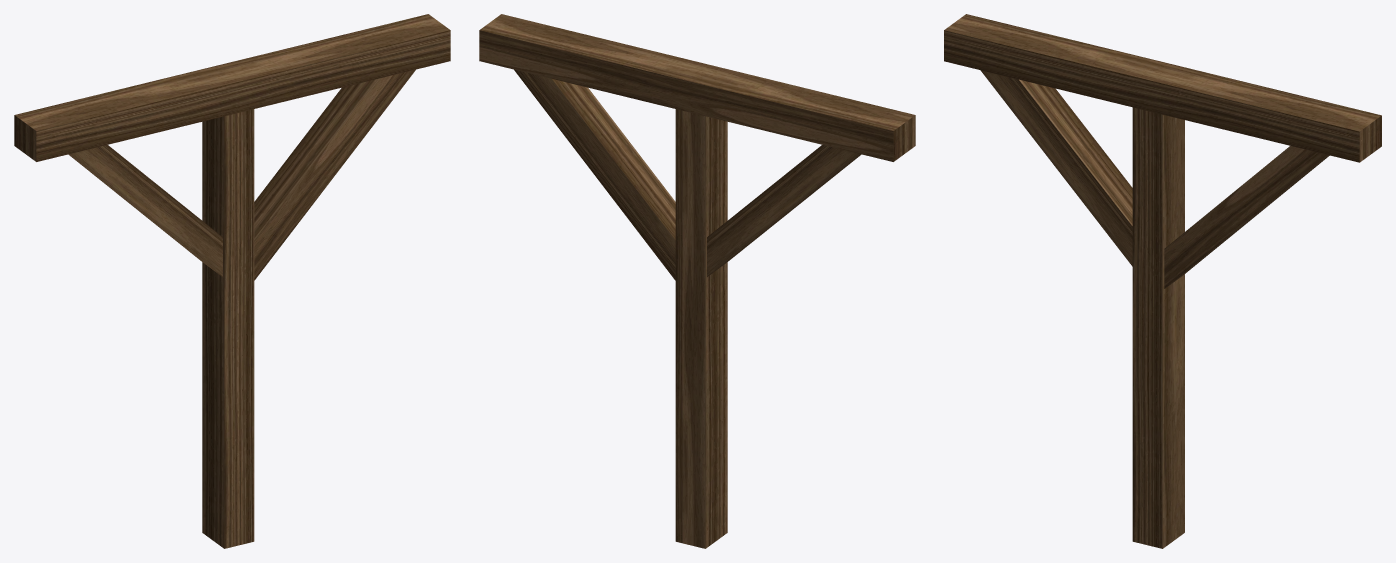
File: Wooden 03.glb
3 views of the same model, side by side, from view 1: azimuth 30°, elevation 25°; view 2: azimuth 150°, elevation 25°; view 3: azimuth 330°, elevation 25° (orthographic).
Parts seen in each view (by area): view 1: Wooden_03; view 2: Wooden_03; view 3: Wooden_03.
Part boxes in pixels (left/top/right/bottom): Wooden_03: left=14, top=14, right=450, bottom=548; Wooden_03: left=479, top=14, right=915, bottom=548; Wooden_03: left=944, top=14, right=1381, bottom=548.
Size of the model in its own units: 1.1 by 1.18 by 0.1017.
1 material, 1 textured.
